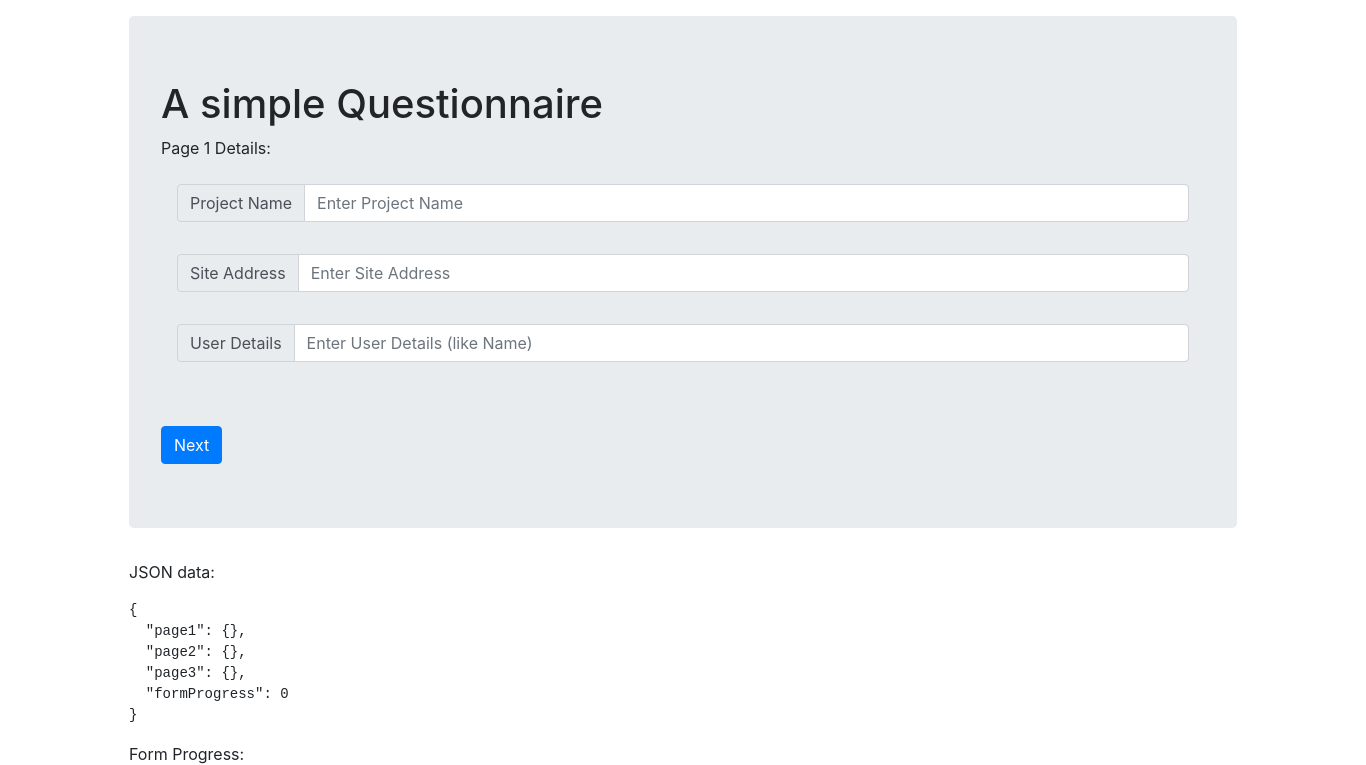
Test: Step1 › Form Submit with no values
expect the form is shown: met, box [161,136,1205,464]
Step 1. Click the submit button → x=192, y=445, box [161,426,222,464]
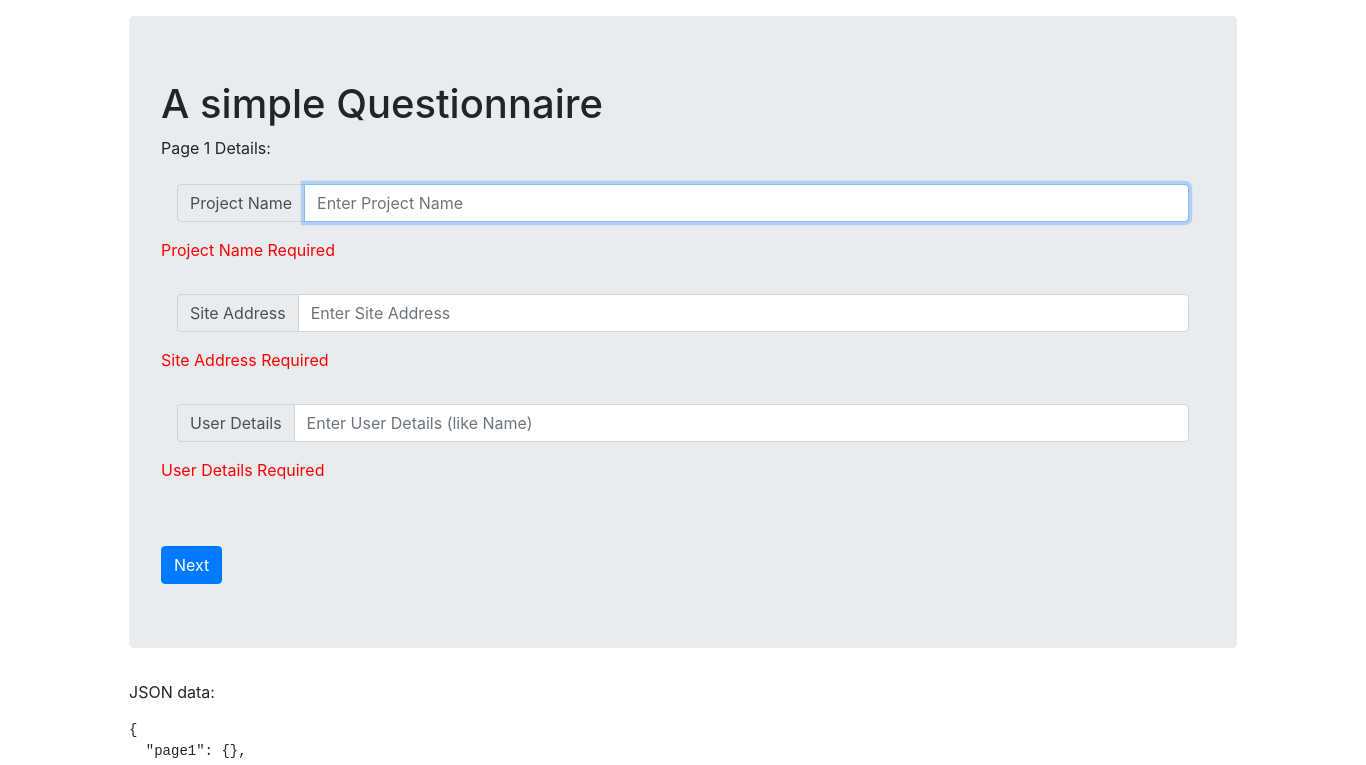
expect the text "Project Name Required" is shown: met, box [161,240,335,260]
expect the text with class "site_address" reads "Site Address Required": met, box [161,350,329,370]
expect the text with class "user_details" reads "User Details Required": met, box [161,460,325,480]
